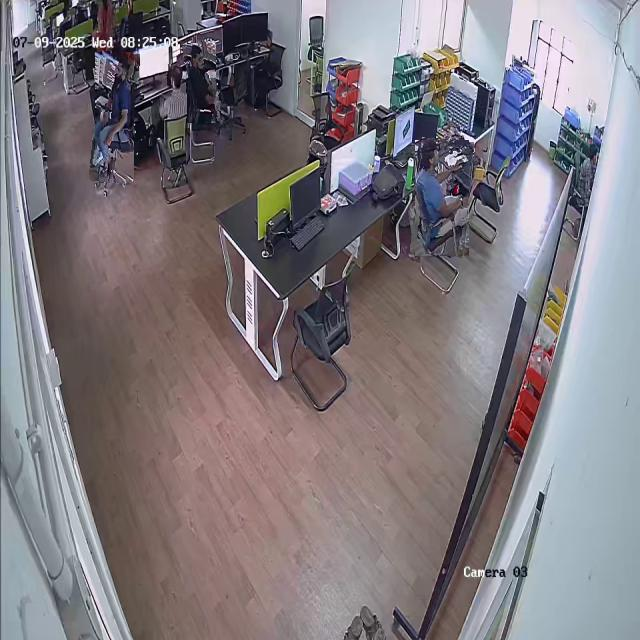person: (413, 139, 472, 257), (92, 51, 137, 184), (185, 42, 218, 124), (156, 64, 190, 122)
